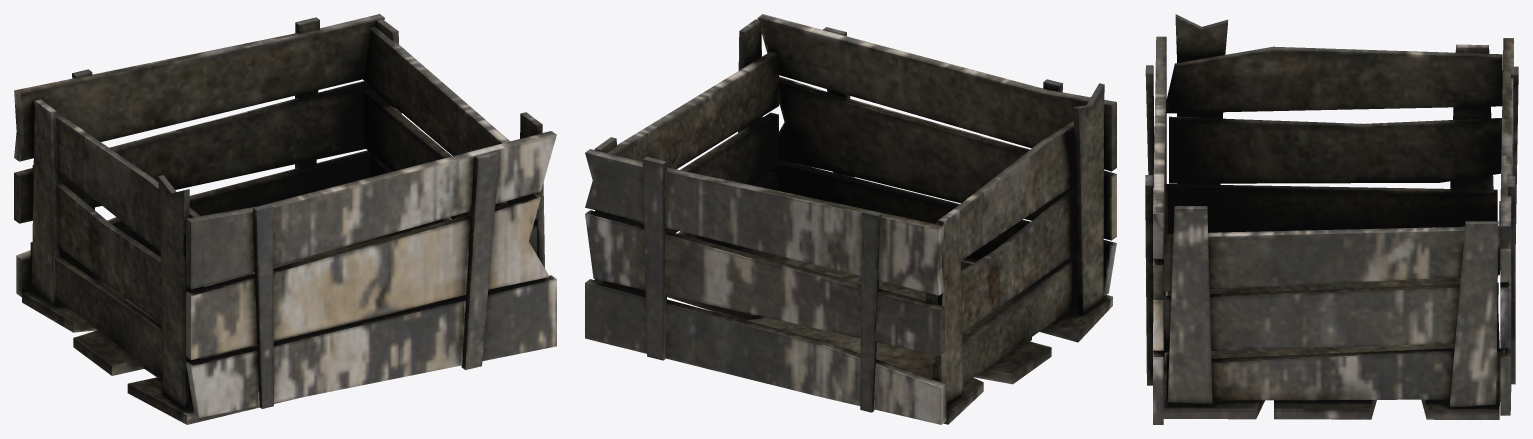
File: WoodenOpenCrate.FBX
3 renders of one model, left to right at view 1: azimuth 30°, elevation 25°; view 2: azimuth 150°, elevation 25°; view 3: azimuth 270°, elevation 25°, orthographic. The views are drawn at different scales.
Visible parts, largest first — view 1: WoodenOpenCrate; view 2: WoodenOpenCrate; view 3: WoodenOpenCrate.
Boxes of the visible parts, x1,y1,x2,y2 form: WoodenOpenCrate: (14,14,556,424); WoodenOpenCrate: (585,14,1116,424); WoodenOpenCrate: (1145,14,1518,424).
Size of the model in its own units: 66.89 by 39.85 by 57.36.
